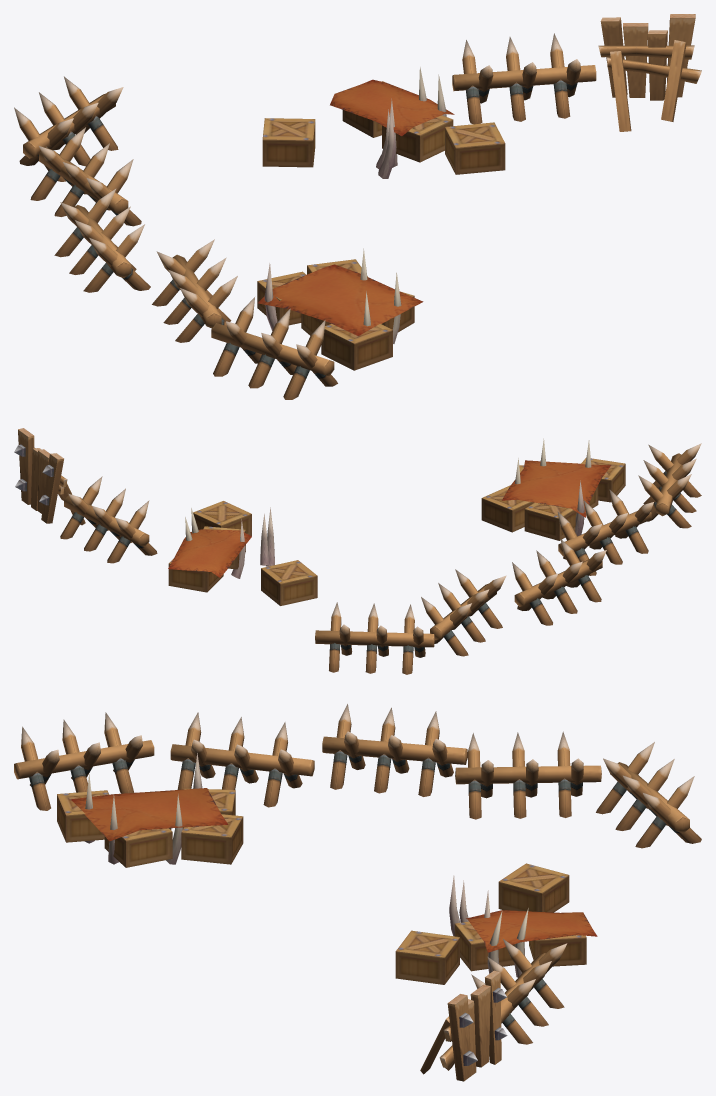
File: area_03_20.fbx
The picture shows the model from 3 angles, top to bottom: view 1: azimuth 30°, elevation 25°; view 2: azimuth 150°, elevation 25°; view 3: azimuth 270°, elevation 25°; orthographic projection. The views are drawn at different scales.
Parts seen in each view (by area): view 1: area_03_20; view 2: area_03_20; view 3: area_03_20.
Boxes of the visible parts, x1,y1,x2,y2 form: area_03_20: (14,14,701,399); area_03_20: (14,428,701,674); area_03_20: (14,704,701,1081).
Size of the model in its own units: 27.97 by 3.99 by 24.96.
